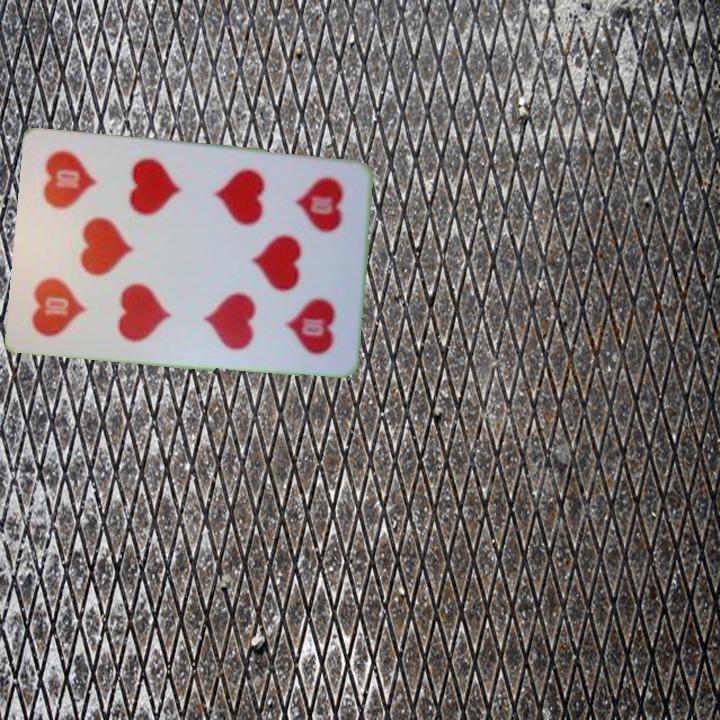h_10.png: (264, 166, 359, 273), (21, 238, 115, 345)
